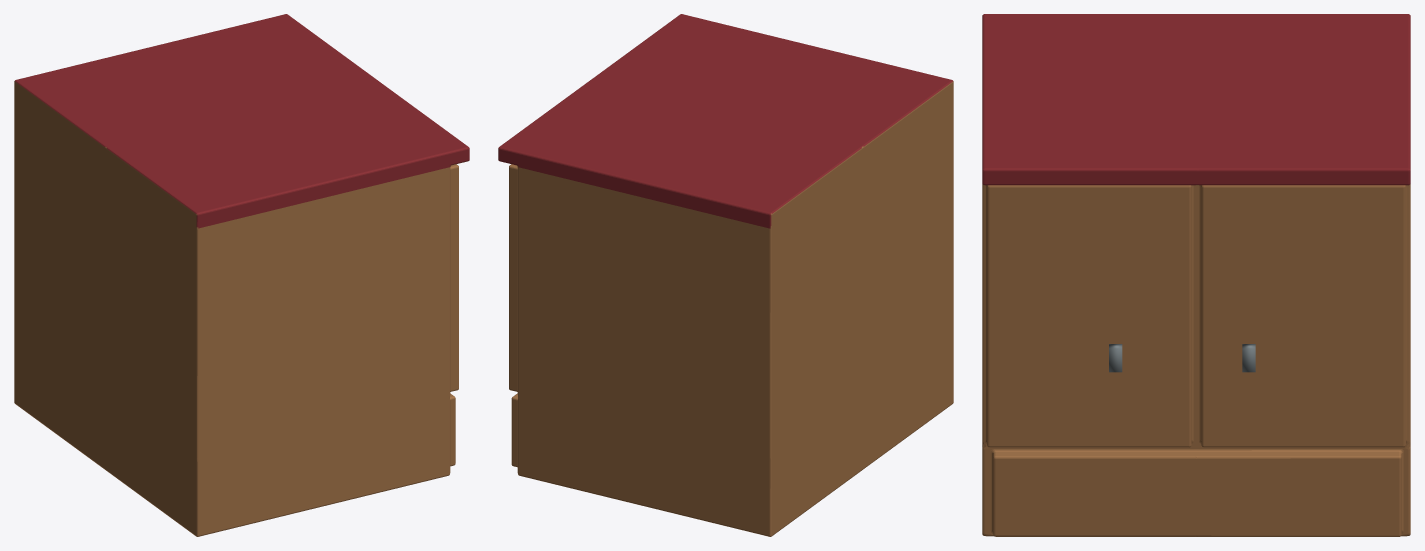
Rendered from Countertop.fbx.
3 renders of one model, left to right at view 1: azimuth 30°, elevation 25°; view 2: azimuth 150°, elevation 25°; view 3: azimuth 270°, elevation 25°, orthographic. The views are drawn at different scales.
Parts seen in each view (by area): view 1: Cube.206; view 2: Cube.206; view 3: Cube.206.
Part boxes in pixels (bbox=[...]): Cube.206: bbox=[14, 14, 469, 536]; Cube.206: bbox=[498, 14, 953, 536]; Cube.206: bbox=[982, 14, 1410, 536].
Size of the model in its own units: 246 by 278 by 285.
